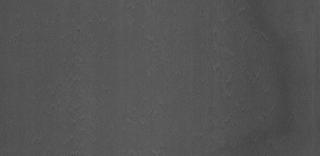silk spot: (195, 48, 255, 102), (52, 55, 106, 103), (207, 13, 251, 41)
